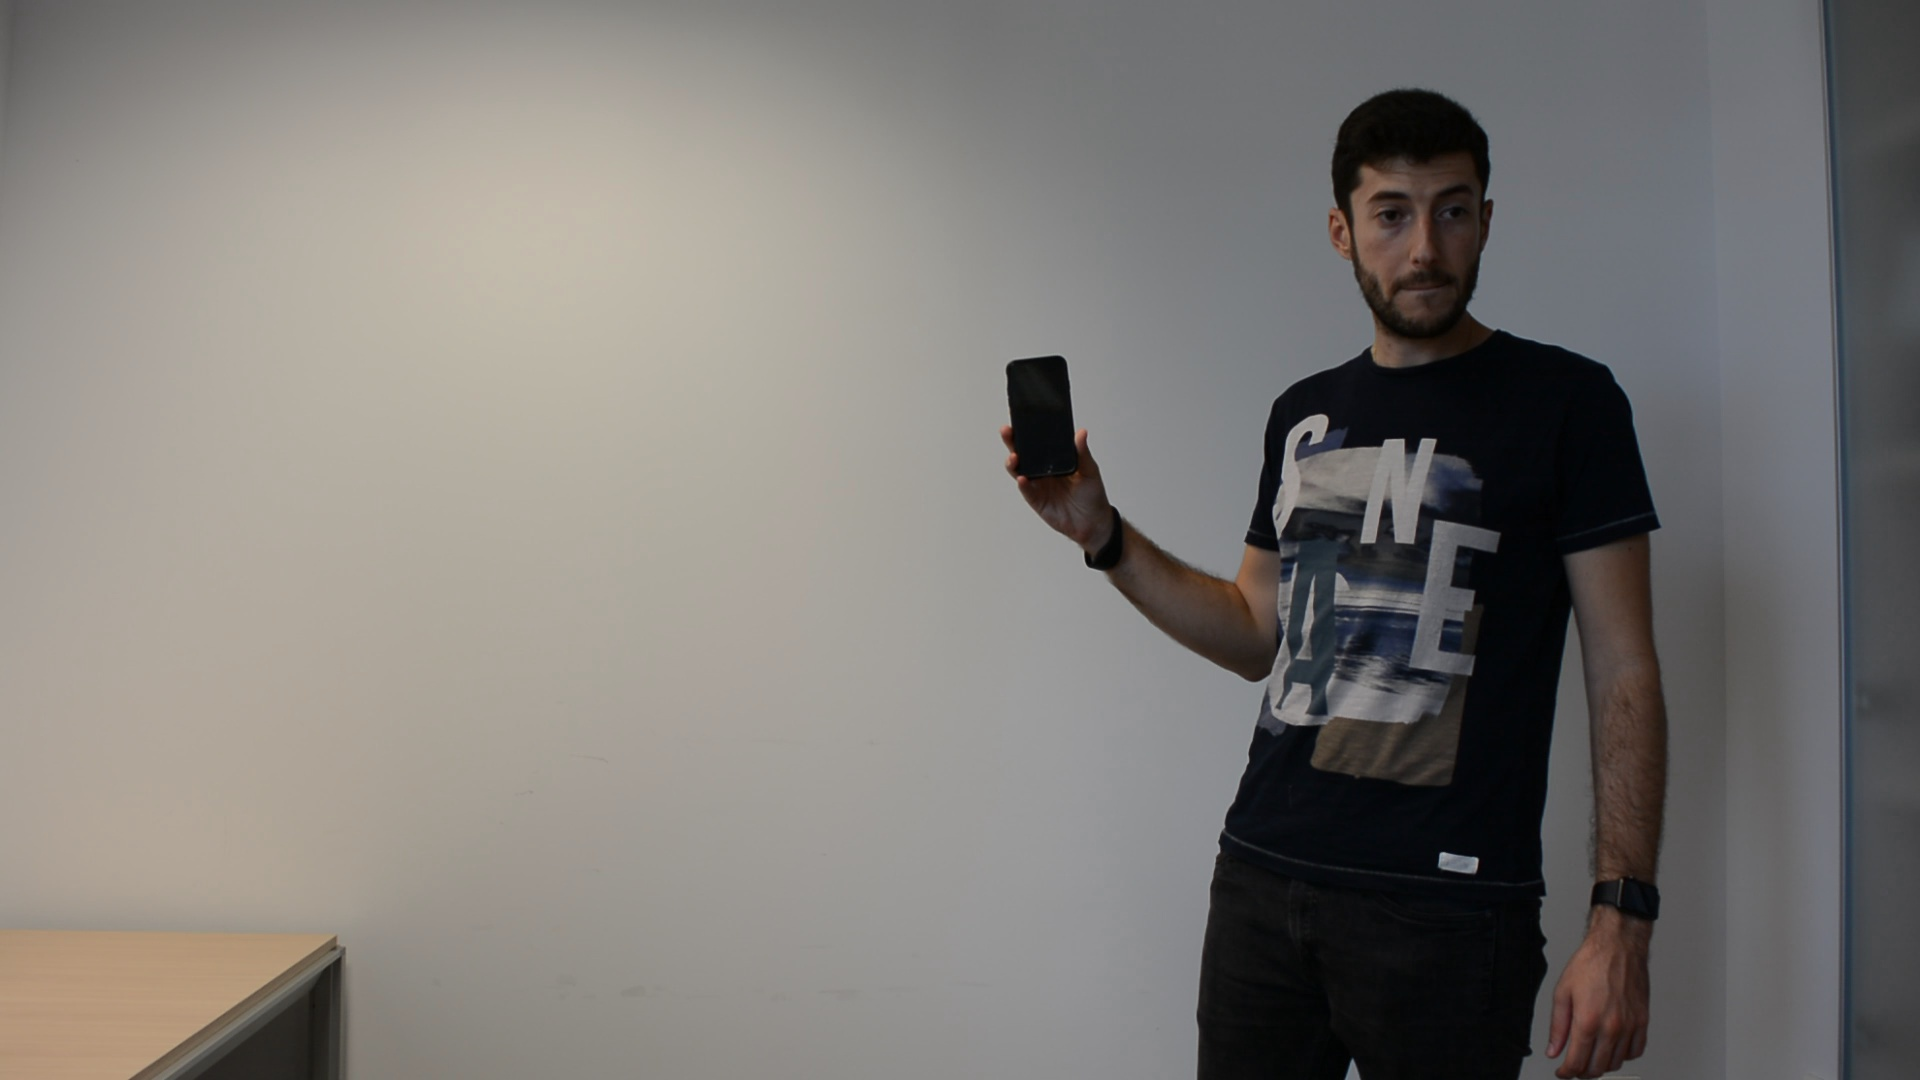smartphone: (1004, 353, 1080, 483)
